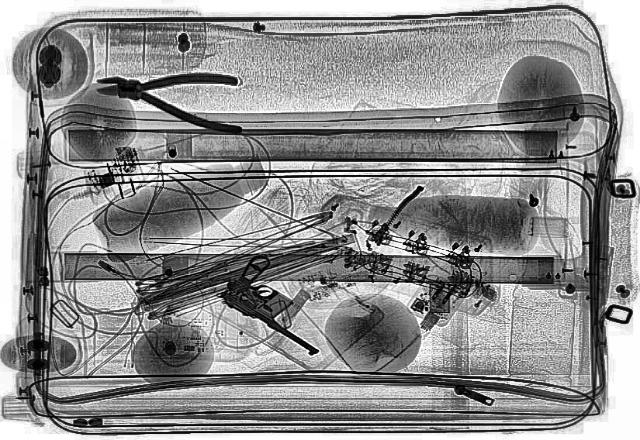Gun: (202, 252, 372, 356)
Pliers: (86, 57, 260, 135)
